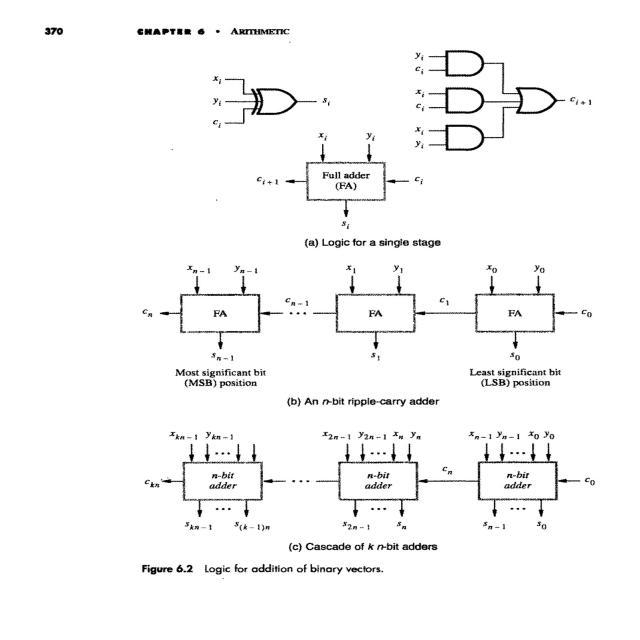diagram: (80, 44, 640, 602)
